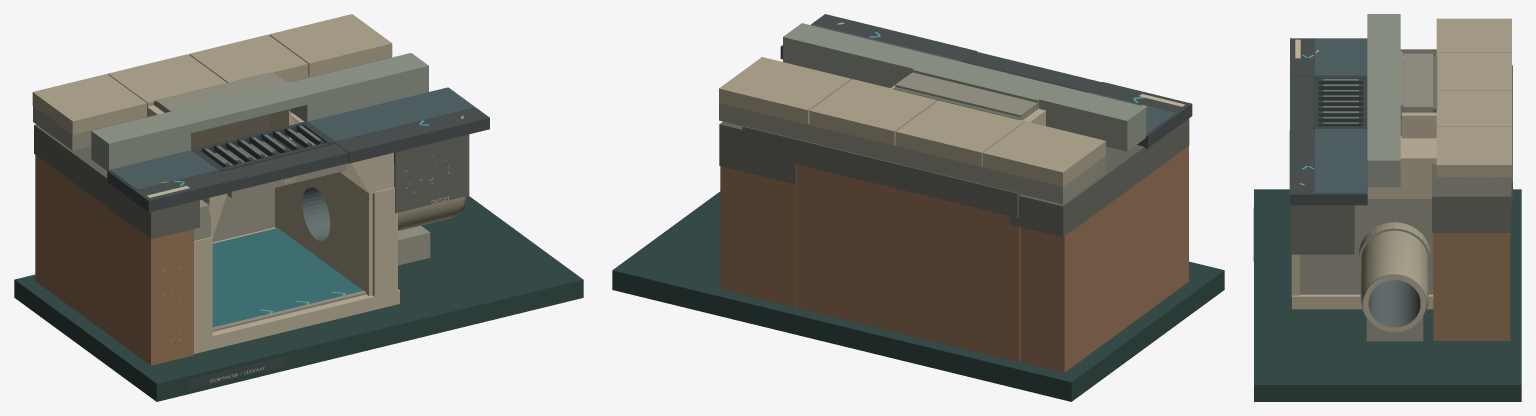
File: roadside-catchpit-cutaway.glb
3 views of the same model, side by side, from view 1: azimuth 30°, elevation 25°; view 2: azimuth 150°, elevation 25°; view 3: azimuth 270°, elevation 25° (orthographic). The views are drawn at different scales.
Parts seen in each view (by area): view 1: Presentation-section supporting slate base, Left exposed earth section, Thin illustrative sump layer, below outlet invert, OUTLET_PASS_THROUGH_WALL, Kerb inlet right cheek, Left compacted road aggregate, Right curb block substrate, Separated raised rear paver slab, Separated raised rear paver slab.003, Kerb inlet left cheek, Dark right gutter shoulder, Roadway sliced to right of inlet (+20 smaller); view 2: Far backed soil, Presentation-section supporting slate base, Left exposed earth section, Right short warm soil section at pipe exit, Far concrete backfill cap, Raised rear footpath support shelf, Left compacted road aggregate, Kerb inlet right cheek, Separated raised rear paver slab, Separated raised rear paver slab.003, Separated raised rear paver slab.001, Separated raised rear paver slab.002 (+8 smaller); view 3: Presentation-section supporting slate base, Right short warm soil section at pipe exit, OUTLET_HOLLOW_PIPE, OUTLET_PASS_THROUGH_WALL, Separated raised rear paver slab.003, Dark right gutter shoulder, Right short compacted fill layer, Right curb block substrate, Separated raised rear paver slab.001, Kerb inlet right cheek, Separated raised rear paver slab.002, Roadway sliced to right of inlet (+18 smaller).
Boxes of the visible parts, x1=… form: Presentation-section supporting slate base: x1=14, y1=195, x2=583, y2=401; Left exposed earth section: x1=35, y1=155, x2=193, y2=365; Thin illustrative sump layer, below outlet invert: x1=212, y1=228, x2=363, y2=327; OUTLET_PASS_THROUGH_WALL: x1=275, y1=138, x2=372, y2=296; Kerb inlet right cheek: x1=289, y1=53, x2=428, y2=121; Left compacted road aggregate: x1=34, y1=124, x2=199, y2=239; Right curb block substrate: x1=394, y1=134, x2=469, y2=213; Separated raised rear paver slab: x1=32, y1=74, x2=146, y2=134; Separated raised rear paver slab.003: x1=269, y1=14, x2=392, y2=76; Kerb inlet left cheek: x1=91, y1=111, x2=190, y2=170; Dark right gutter shoulder: x1=308, y1=87, x2=475, y2=141; Roadway sliced to right of inlet: x1=335, y1=88, x2=489, y2=163; Far backed soil: x1=796, y1=164, x2=1020, y2=362; Presentation-section supporting slate base: x1=612, y1=191, x2=1224, y2=401; Left exposed earth section: x1=1020, y1=146, x2=1188, y2=372; Right short warm soil section at pipe exit: x1=720, y1=166, x2=796, y2=307; Far concrete backfill cap: x1=742, y1=126, x2=1020, y2=217; Raised rear footpath support shelf: x1=719, y1=103, x2=1105, y2=204; Left compacted road aggregate: x1=1010, y1=118, x2=1189, y2=237; Kerb inlet right cheek: x1=783, y1=23, x2=932, y2=88; Separated raised rear paver slab: x1=982, y1=121, x2=1105, y2=186; Separated raised rear paver slab.003: x1=719, y1=57, x2=851, y2=124; Separated raised rear paver slab.001: x1=895, y1=100, x2=1024, y2=166; Separated raised rear paver slab.002: x1=809, y1=79, x2=937, y2=145; Presentation-section supporting slate base: x1=1254, y1=189, x2=1521, y2=401; Right short warm soil section at pipe exit: x1=1433, y1=233, x2=1510, y2=340; OUTLET_HOLLOW_PIPE: x1=1360, y1=230, x2=1428, y2=331; OUTLET_PASS_THROUGH_WALL: x1=1300, y1=199, x2=1433, y2=294; Separated raised rear paver slab.003: x1=1436, y1=127, x2=1511, y2=177; Dark right gutter shoulder: x1=1315, y1=129, x2=1366, y2=194; Right short compacted fill layer: x1=1432, y1=164, x2=1511, y2=232; Right curb block substrate: x1=1291, y1=205, x2=1354, y2=254; Separated raised rear paver slab.001: x1=1436, y1=53, x2=1511, y2=90; Kerb inlet right cheek: x1=1367, y1=105, x2=1400, y2=187; Separated raised rear paver slab.002: x1=1436, y1=90, x2=1511, y2=126; Roadway sliced to right of inlet: x1=1289, y1=130, x2=1367, y2=205.
Size of the model in its own units: 2.23 by 1.05 by 1.29.
